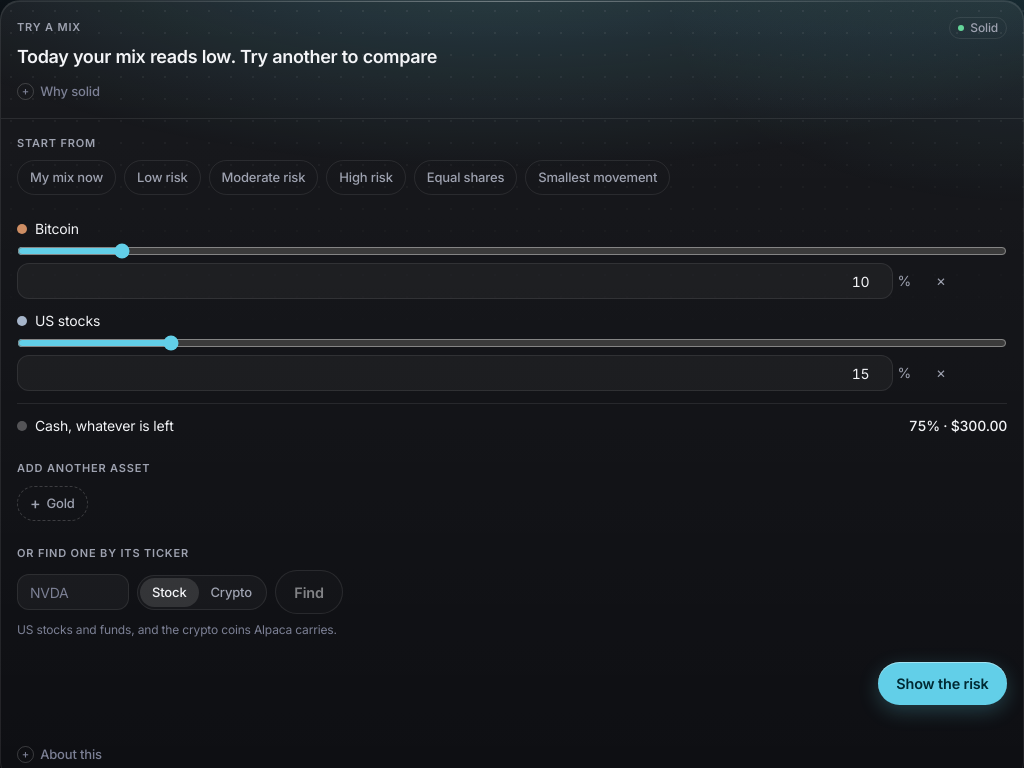
Test: LevelsPanel › offers the levels and the other splits as starting points, not as decisions
The image size is (1024, 768).
Step 1. Click the button "Moderate risk" → (263,178), box [209,160,318,195]
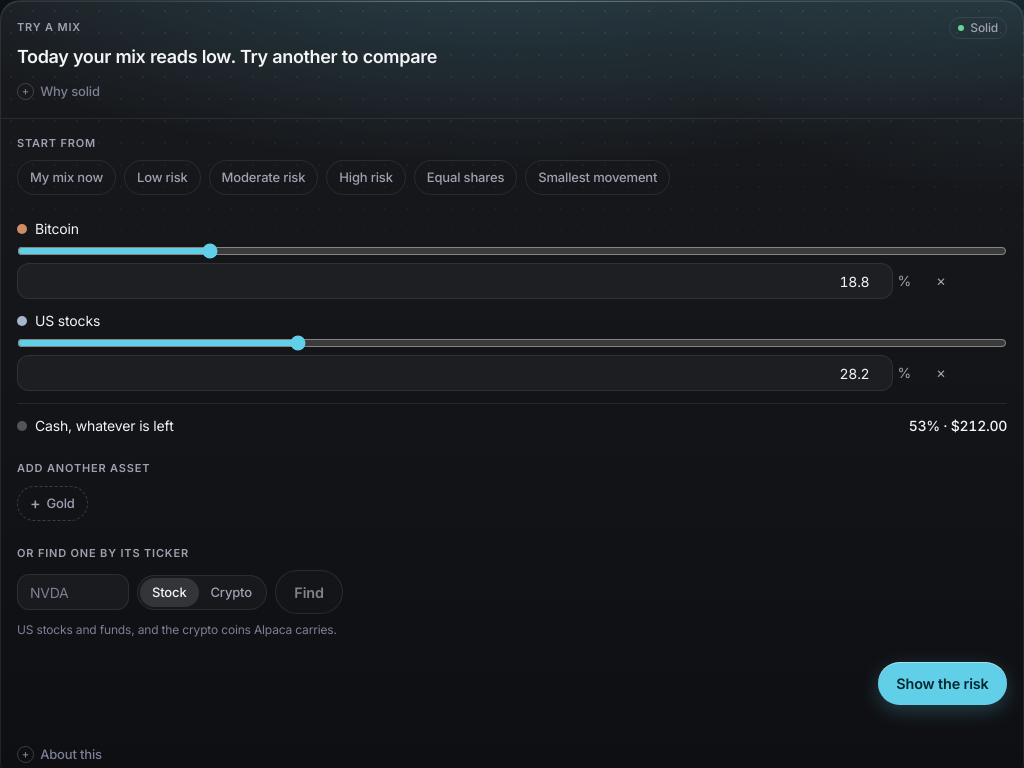
Result: the number field named "Bitcoin share, percent" holds "18.8" at [17,263,893,299]
Result: the number field named "US stocks share, percent" holds "28.2" at [17,355,893,391]
Step 2. Click the button "Smallest movement" → (598,178), box [525,160,670,195]
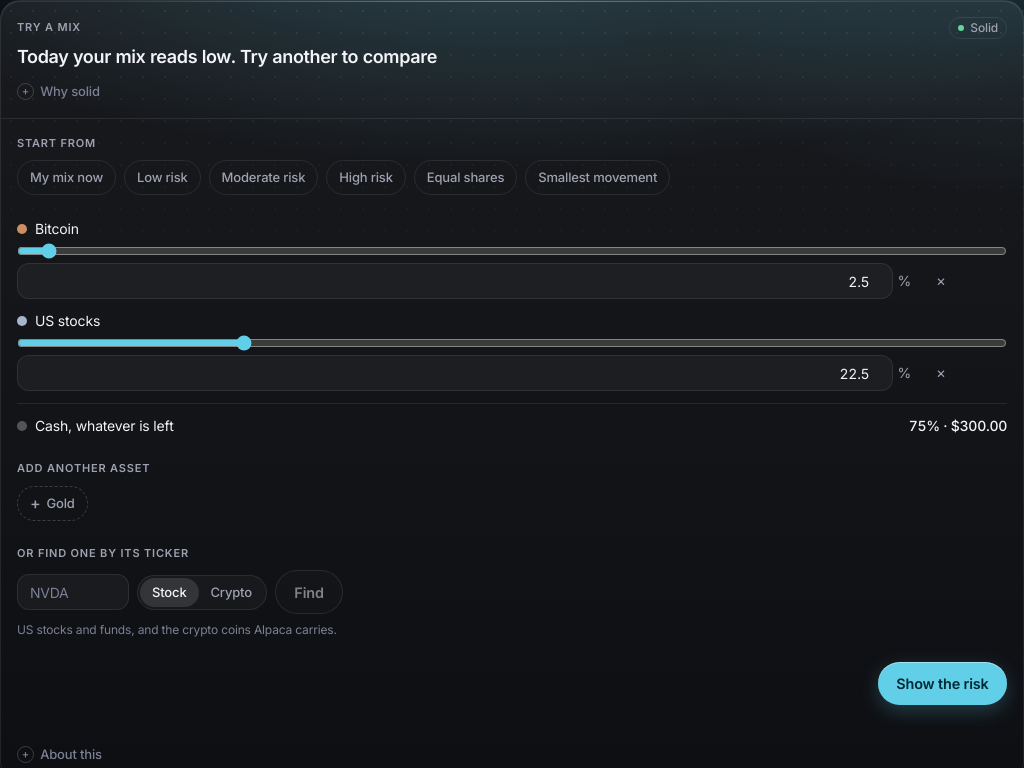
Result: the number field named "Bitcoin share, percent" holds "2.5" at [17,263,893,299]
Result: the number field named "US stocks share, percent" holds "22.5" at [17,355,893,391]
